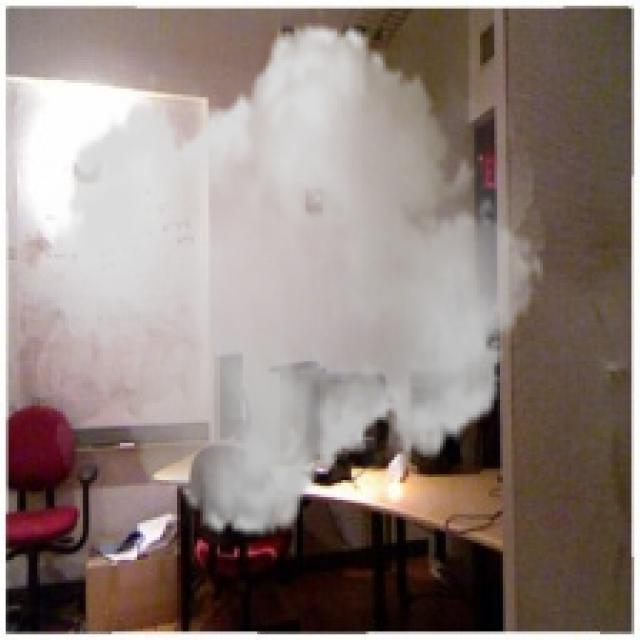smoke: (26, 3, 546, 557)
